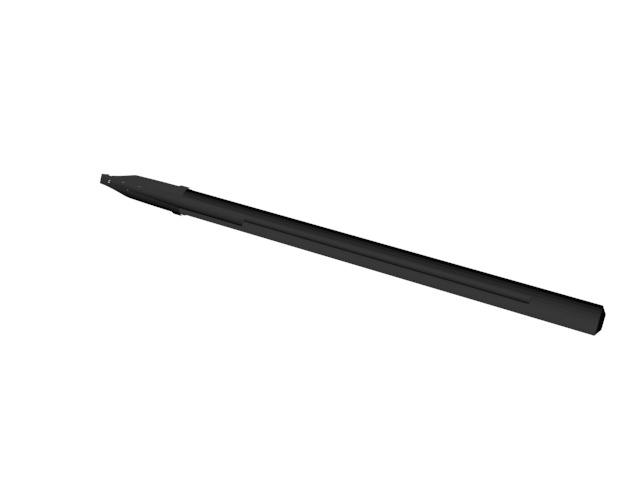pen: (97, 169, 608, 336)
